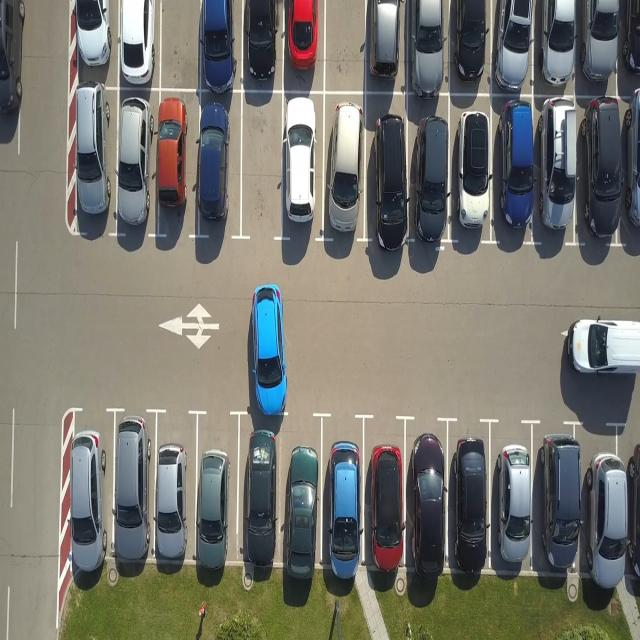space-empty: (241, 90, 286, 241), (324, 0, 371, 91), (160, 2, 205, 90)
space-occupied: (578, 444, 636, 608), (534, 420, 587, 590), (108, 406, 157, 572), (571, 104, 626, 245), (321, 414, 367, 581), (192, 411, 240, 569), (404, 416, 450, 580), (153, 411, 200, 571), (322, 90, 370, 246), (360, 414, 404, 583), (64, 86, 114, 234), (447, 417, 494, 574), (488, 418, 534, 578), (365, 95, 414, 245), (238, 413, 284, 572), (279, 414, 323, 579), (488, 103, 540, 242), (450, 104, 500, 247), (532, 102, 583, 242), (197, 88, 243, 240), (72, 408, 112, 580), (152, 91, 195, 246), (407, 98, 452, 244), (280, 93, 323, 245), (115, 87, 157, 238), (570, 0, 622, 95), (533, 2, 581, 98), (489, 2, 536, 98), (449, 0, 497, 92), (404, 2, 450, 97), (69, 2, 117, 90), (363, 2, 406, 95), (117, 0, 163, 86), (243, 0, 287, 89), (198, 2, 242, 91), (280, 0, 323, 90), (618, 105, 640, 247), (617, 0, 639, 94)
